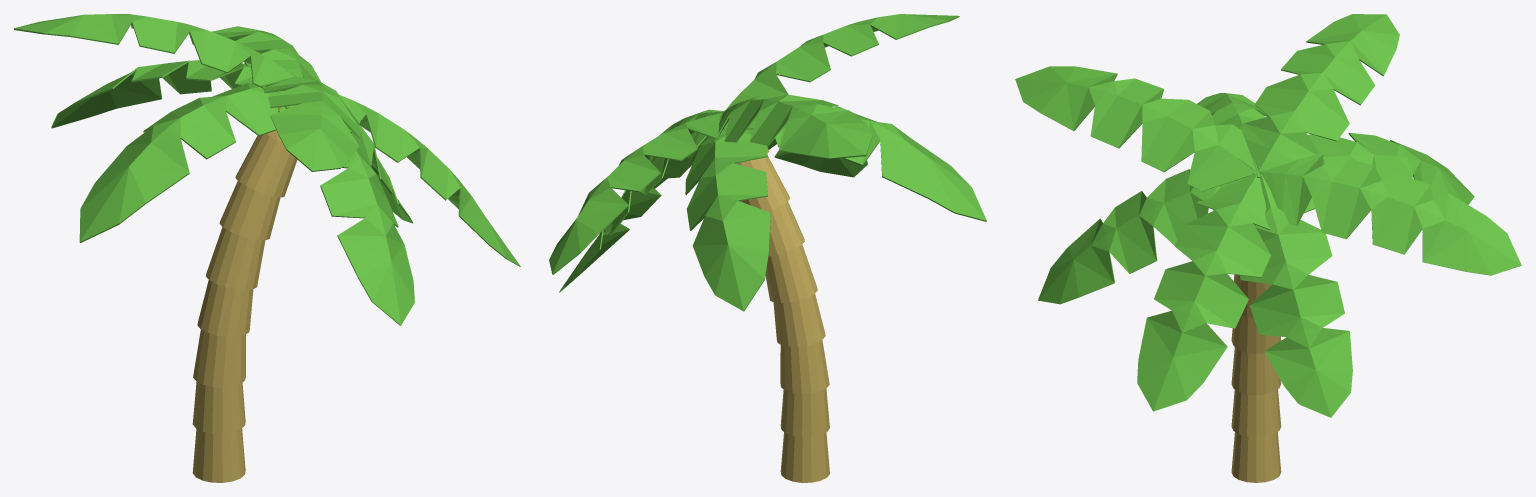
The model's file is Palma_1.fbx.
The picture shows the model from 3 angles, left to right: view 1: azimuth 30°, elevation 25°; view 2: azimuth 150°, elevation 25°; view 3: azimuth 270°, elevation 25°; orthographic projection. The views are drawn at different scales.
Visible parts, largest first — view 1: Palma1; view 2: Palma1; view 3: Palma1.
Boxes of the visible parts, x1,y1,x2,y2 form: Palma1: (14, 14, 520, 482); Palma1: (549, 14, 986, 482); Palma1: (1015, 14, 1521, 482).
Bounding box in the file's own units: 14.19 × 14.26 × 16.15.
